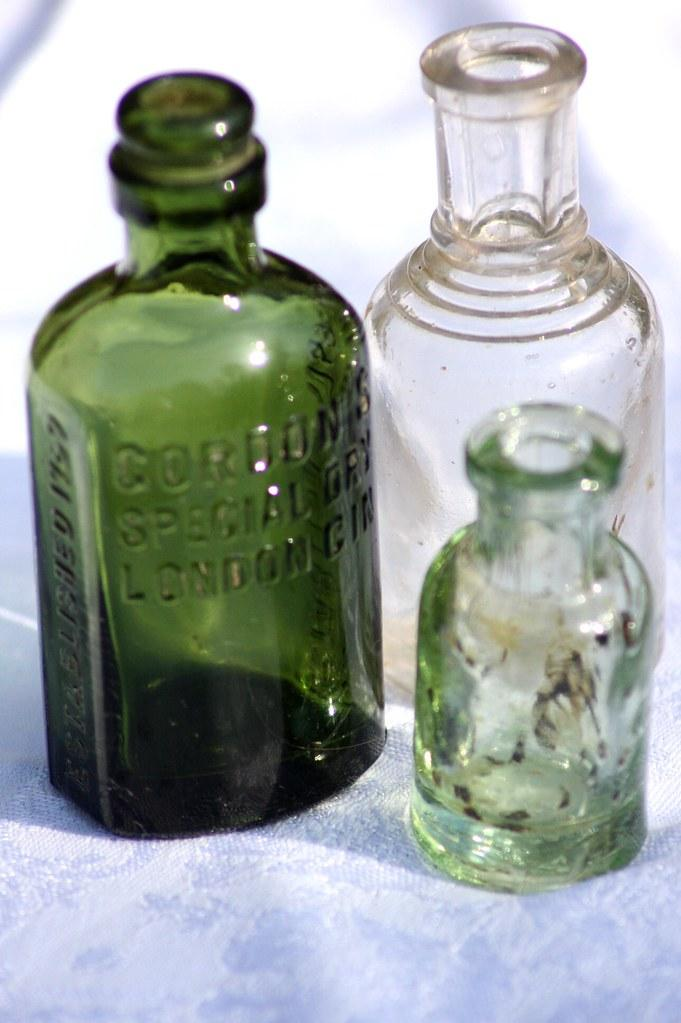bottle: (25, 70, 388, 841), (362, 21, 667, 713), (408, 400, 661, 896)
